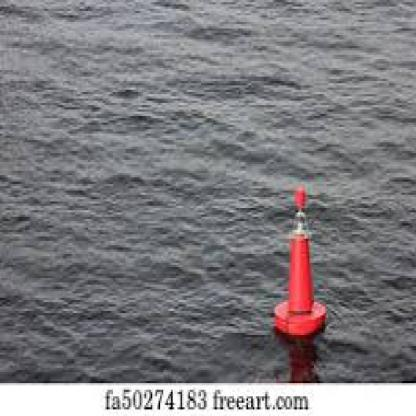buoy: (267, 179, 331, 357)
